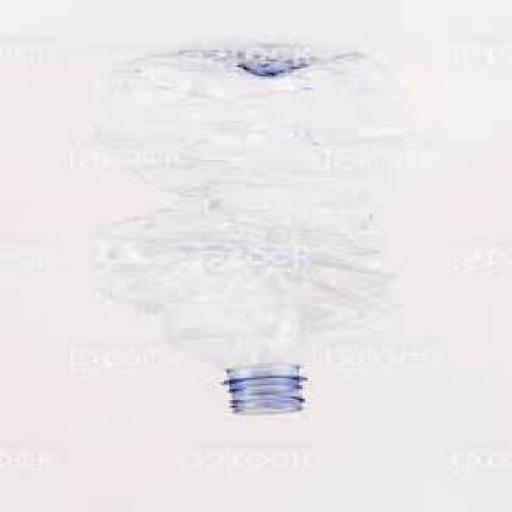plastic: (81, 45, 400, 415)
